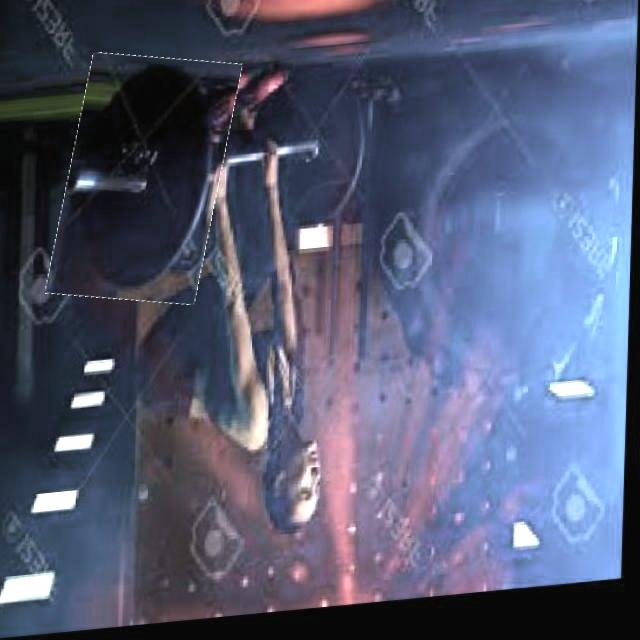barbell: (58, 50, 235, 313)
